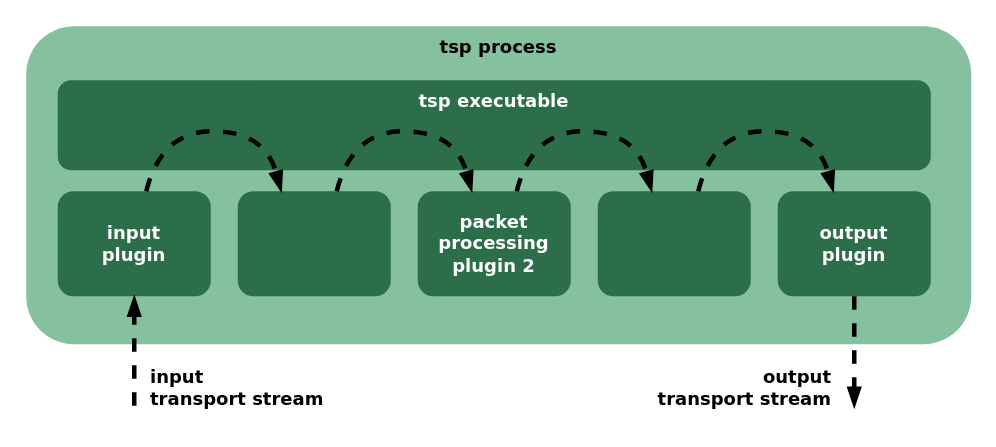
Some shapes in this 996 by 447 pixel diagram are drawn without their labels. The shapes that lost their labels are listed below. From the top down, each one's centre as x and y in pixels, then its label:
point (313, 243): packet processing plugin 1
point (673, 243): packet processing plugin 3
